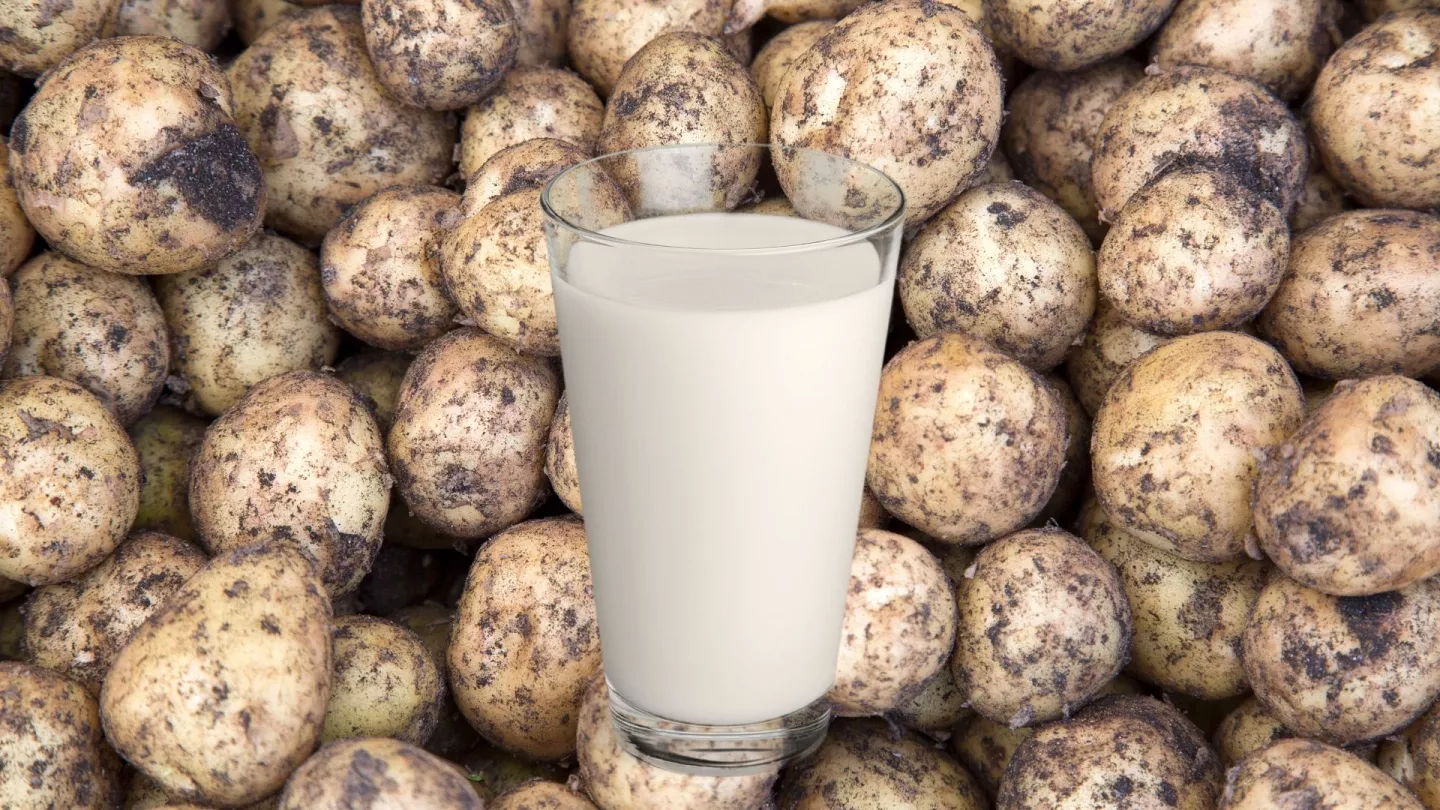milk: (536, 131, 923, 783)
potato: (100, 495, 350, 808), (5, 12, 274, 294), (1086, 292, 1320, 593), (732, 3, 1011, 236), (1074, 110, 1325, 344), (189, 359, 427, 598), (943, 470, 1154, 737), (3, 329, 153, 601), (446, 508, 594, 760), (300, 164, 481, 355), (347, 0, 531, 146), (1218, 699, 1440, 810)
